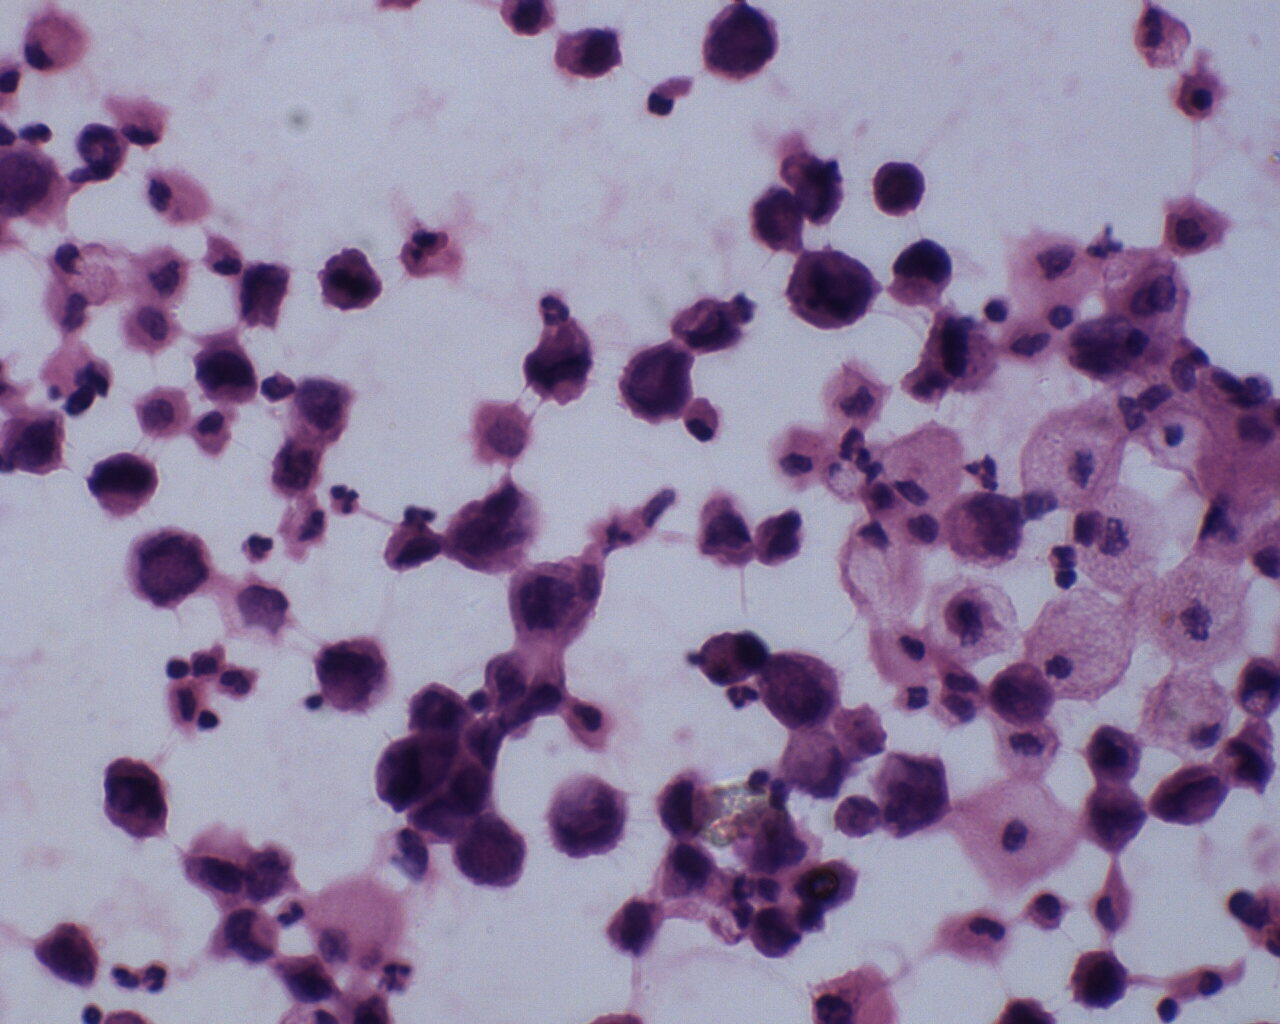ab: (504, 555, 602, 655), (787, 246, 883, 332), (759, 645, 848, 734), (613, 336, 696, 429), (94, 752, 177, 845), (127, 520, 213, 608), (697, 1, 784, 84), (447, 810, 529, 895), (942, 487, 1028, 568), (310, 630, 390, 718), (183, 332, 267, 408), (885, 233, 959, 310), (83, 452, 161, 523), (1077, 785, 1153, 856), (1144, 762, 1226, 827), (549, 20, 626, 87), (317, 238, 383, 315), (866, 152, 931, 222), (990, 662, 1056, 729), (1068, 944, 1131, 1015), (746, 906, 805, 963)
histo: (955, 772, 1080, 889), (1028, 589, 1143, 707), (1133, 664, 1233, 766), (883, 416, 967, 510)
neutro: (534, 286, 576, 332), (238, 527, 277, 564), (326, 481, 364, 518), (138, 958, 171, 998)
